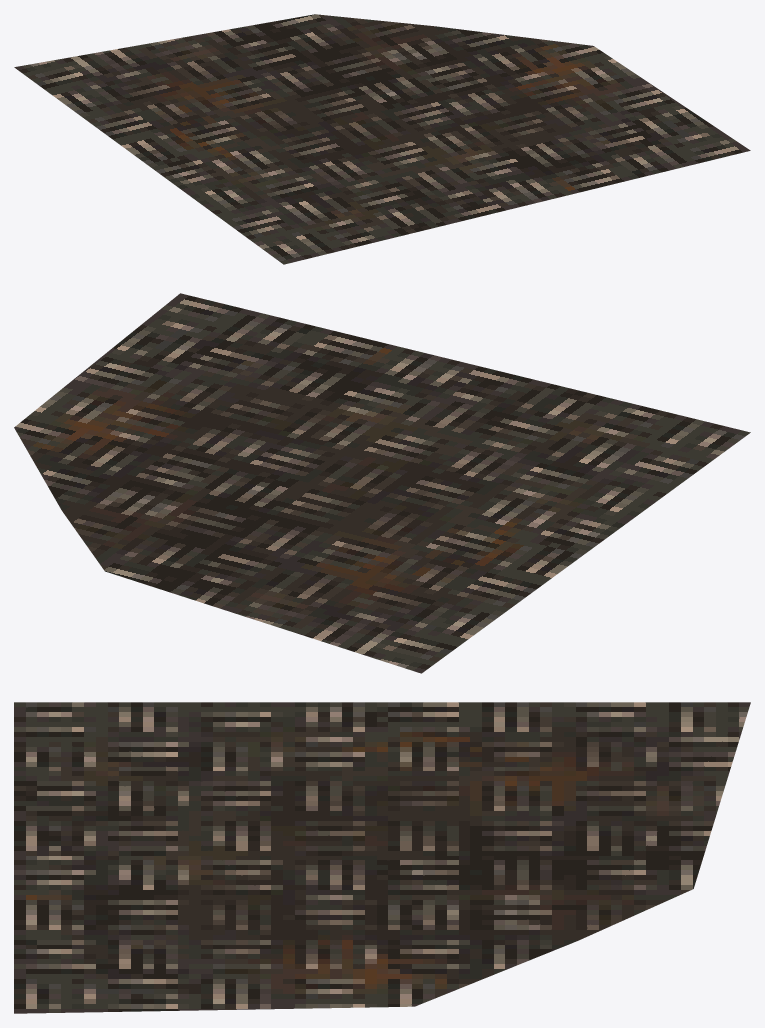
The model's file is Ministerium_BodenMitEcke_2502.glb.
The picture shows the model from 3 angles, top to bottom: view 1: azimuth 30°, elevation 25°; view 2: azimuth 150°, elevation 25°; view 3: azimuth 270°, elevation 25°; orthographic projection. The views are drawn at different scales.
Parts seen in each view (by area): view 1: polySurfaceShape1018; view 2: polySurfaceShape1018; view 3: polySurfaceShape1018.
Part boxes in pixels (bbox=[...]): polySurfaceShape1018: bbox=[14, 14, 750, 264]; polySurfaceShape1018: bbox=[14, 293, 750, 673]; polySurfaceShape1018: bbox=[14, 702, 750, 1013].
Size of the model in its own units: 0.25 by 1.09e-08 by 0.25.
Materials: 1 (1 with a texture image).
